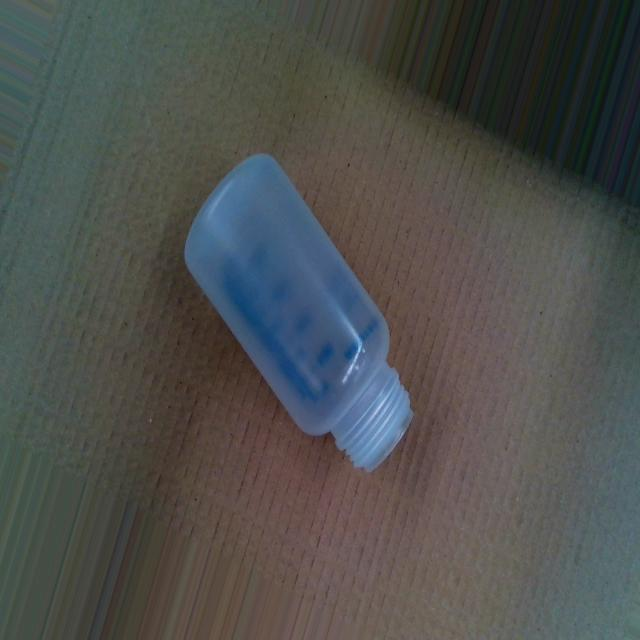bottle: (180, 143, 420, 476)
